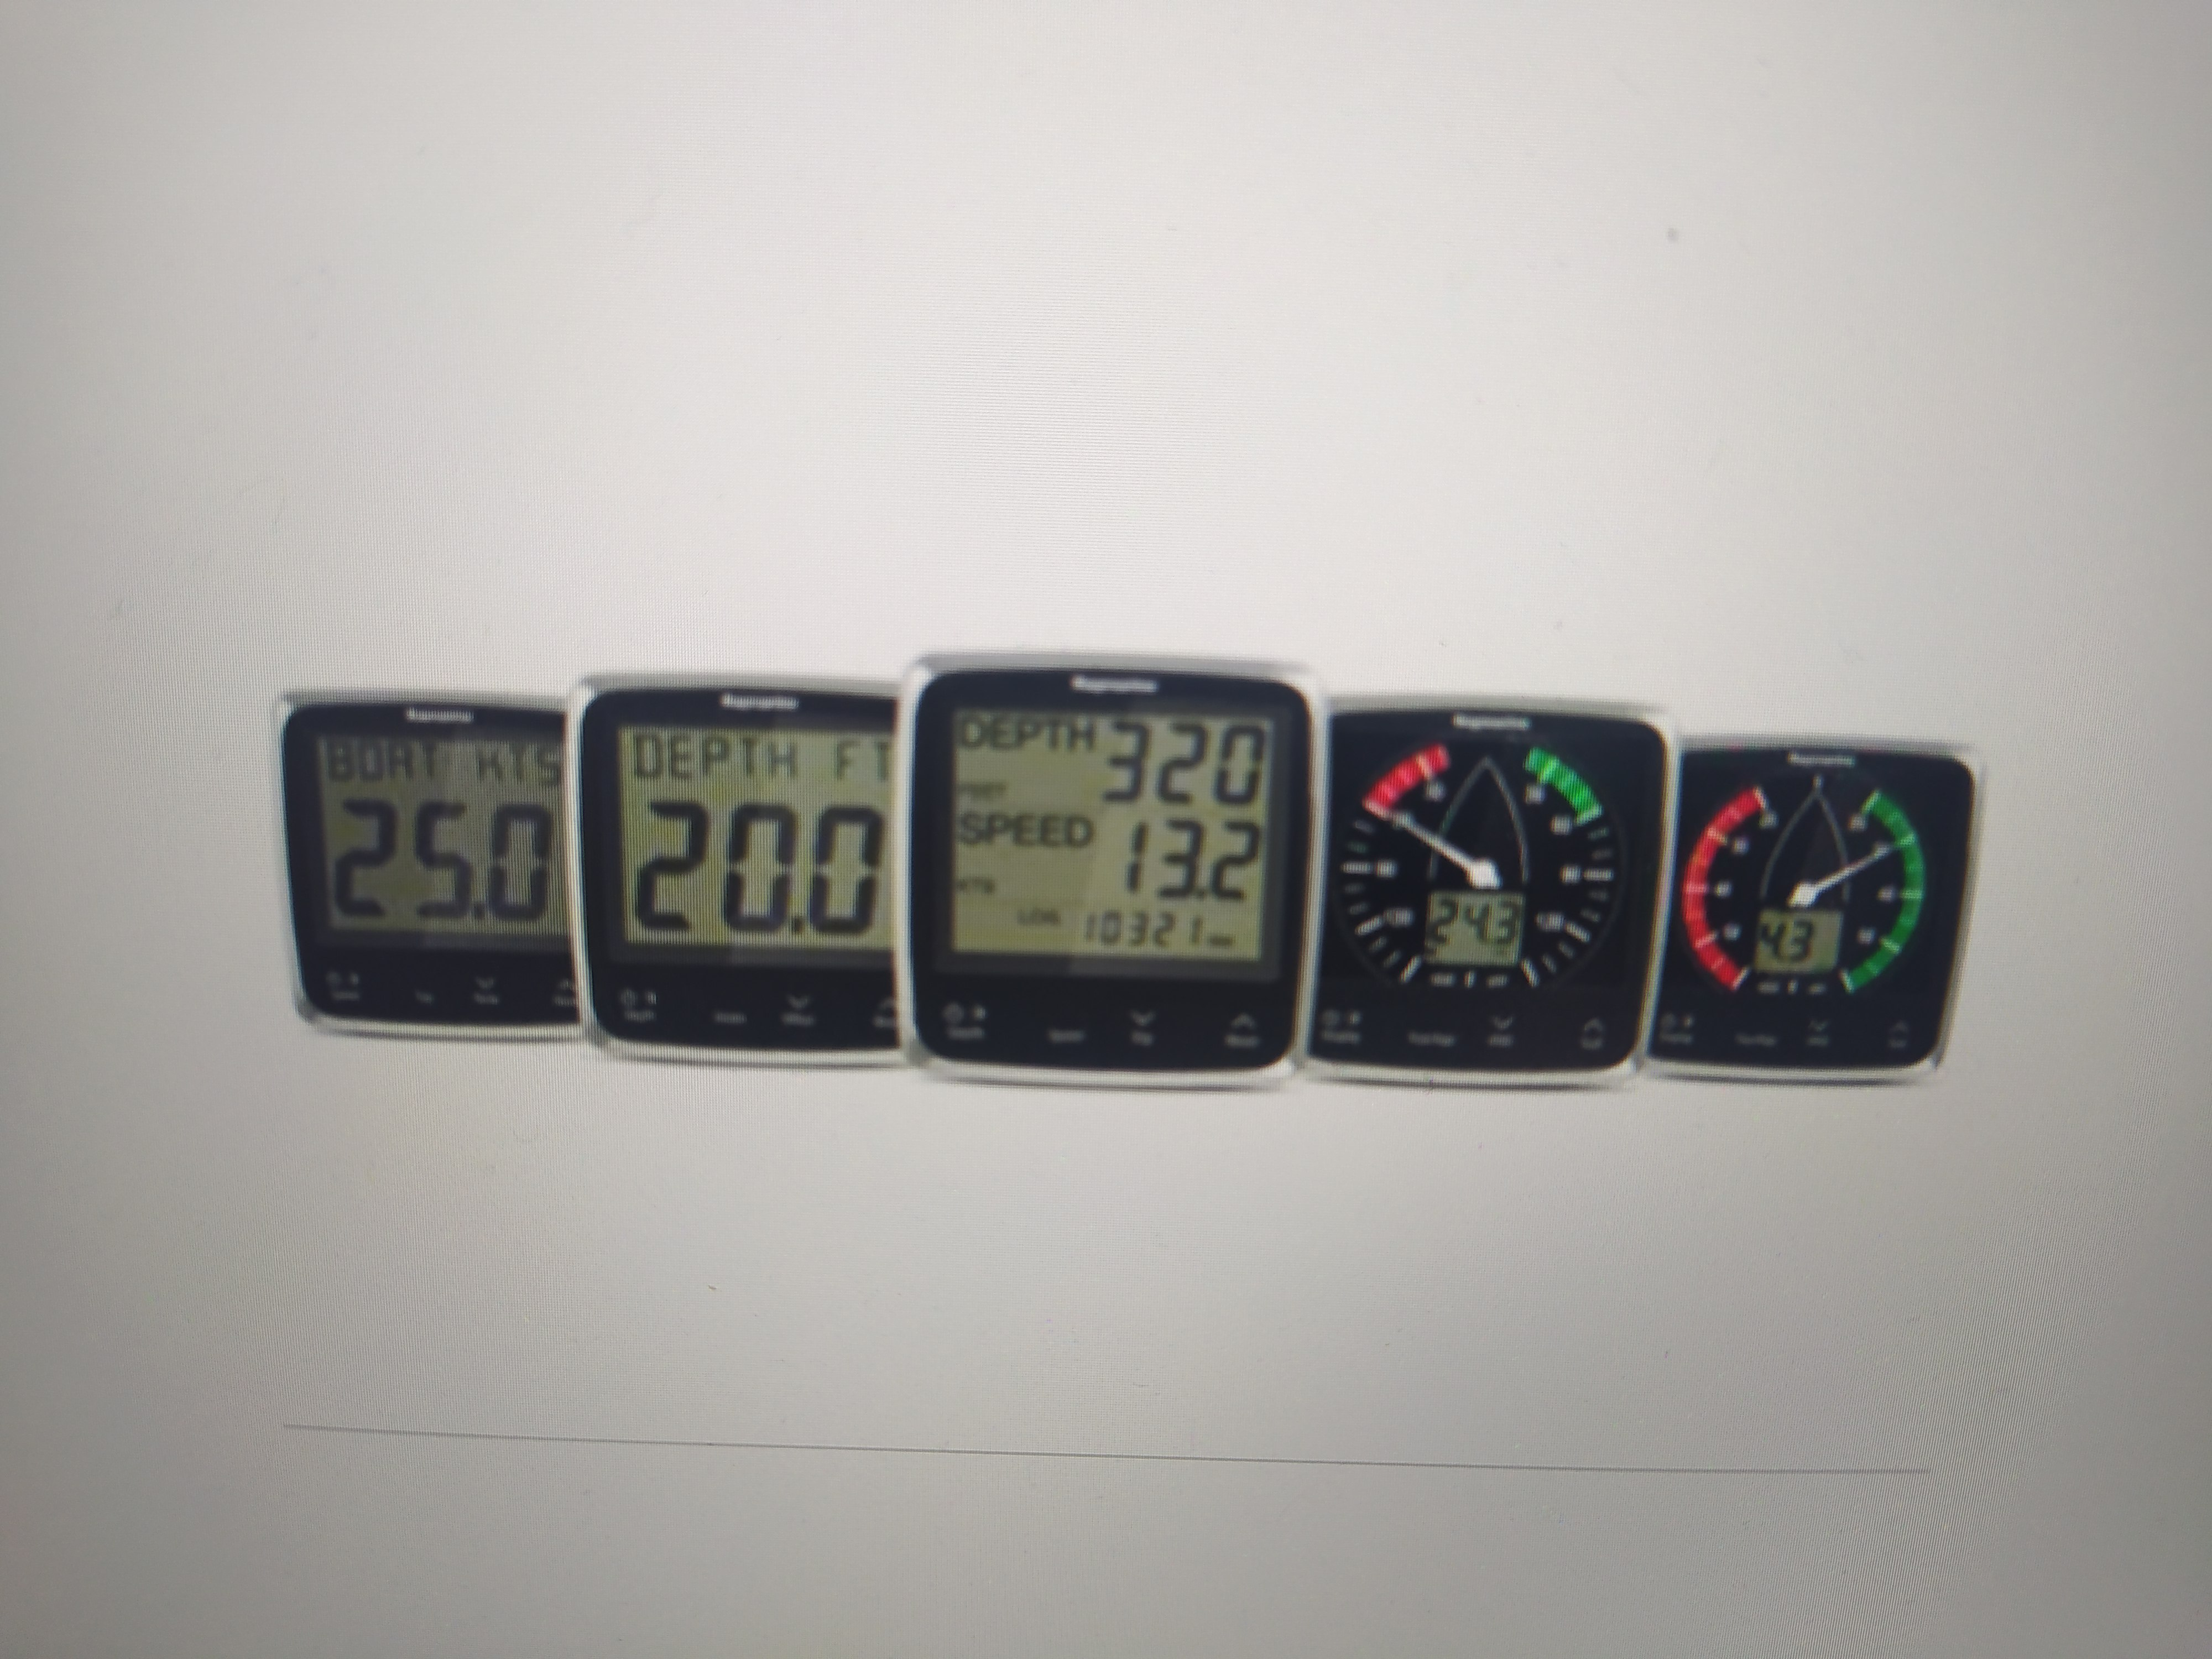.: (791, 786, 810, 943), (475, 786, 489, 932), (1204, 810, 1214, 906), (1491, 892, 1500, 955), (1785, 913, 1791, 964)
0: (721, 789, 794, 939), (813, 788, 881, 945), (489, 786, 554, 932), (1207, 713, 1263, 812), (1097, 908, 1123, 950)
1: (1101, 807, 1150, 899), (1181, 906, 1207, 950), (1078, 908, 1096, 945)
2: (627, 791, 707, 936), (329, 786, 401, 922), (1153, 713, 1207, 810), (1217, 814, 1259, 904), (1428, 892, 1460, 946), (1155, 906, 1179, 951)
3: (1099, 714, 1151, 803), (1151, 810, 1202, 899), (1496, 892, 1515, 962), (1123, 908, 1151, 955), (1791, 913, 1815, 964)
4: (1461, 897, 1493, 951), (1761, 917, 1787, 964)
5: (399, 786, 474, 927)
